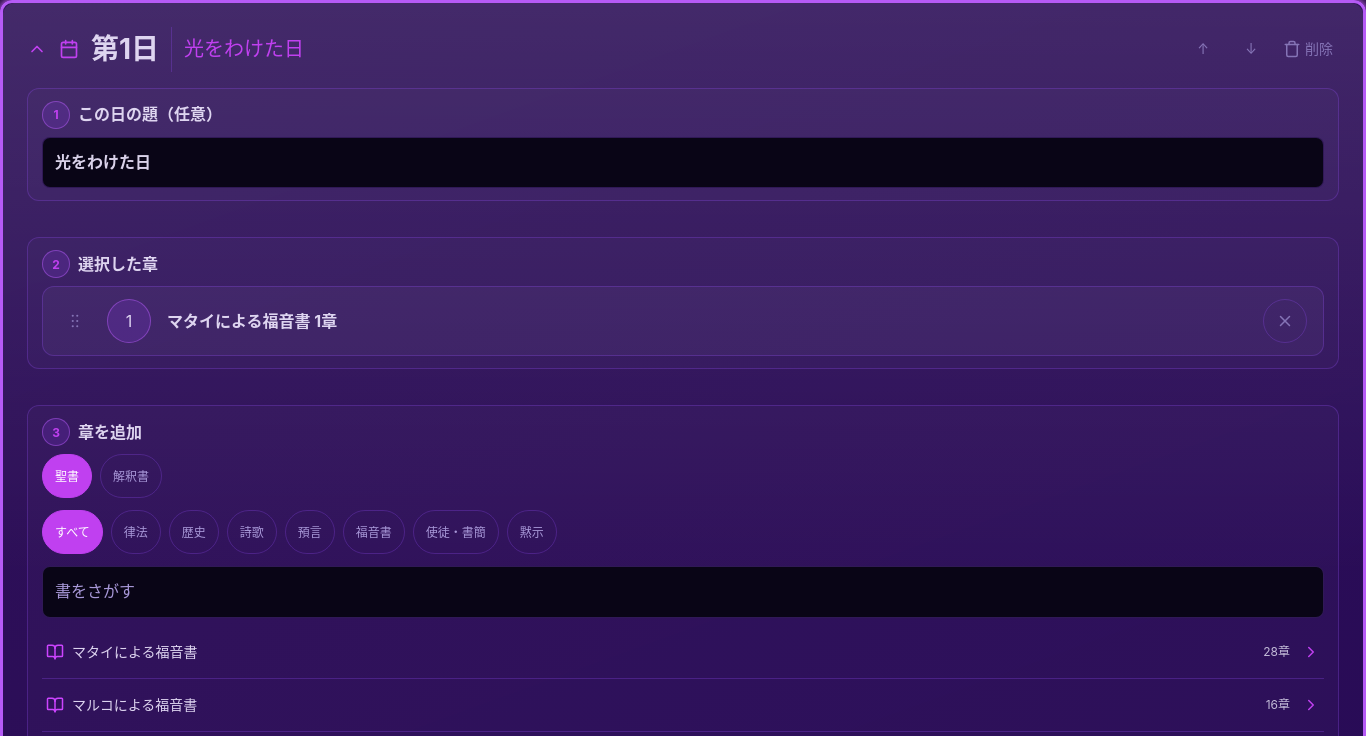
Scenario: プランの1日の編集 › 読む章が出て、外せる
Expected: the text "マタイによる福音書 1章" is shown, x1=167 y1=311 x2=337 y2=331
Click the button named "マタイによる福音書 1章を外す". click: (1285, 321)
box: x1=1263 y1=299 x2=1307 y2=343
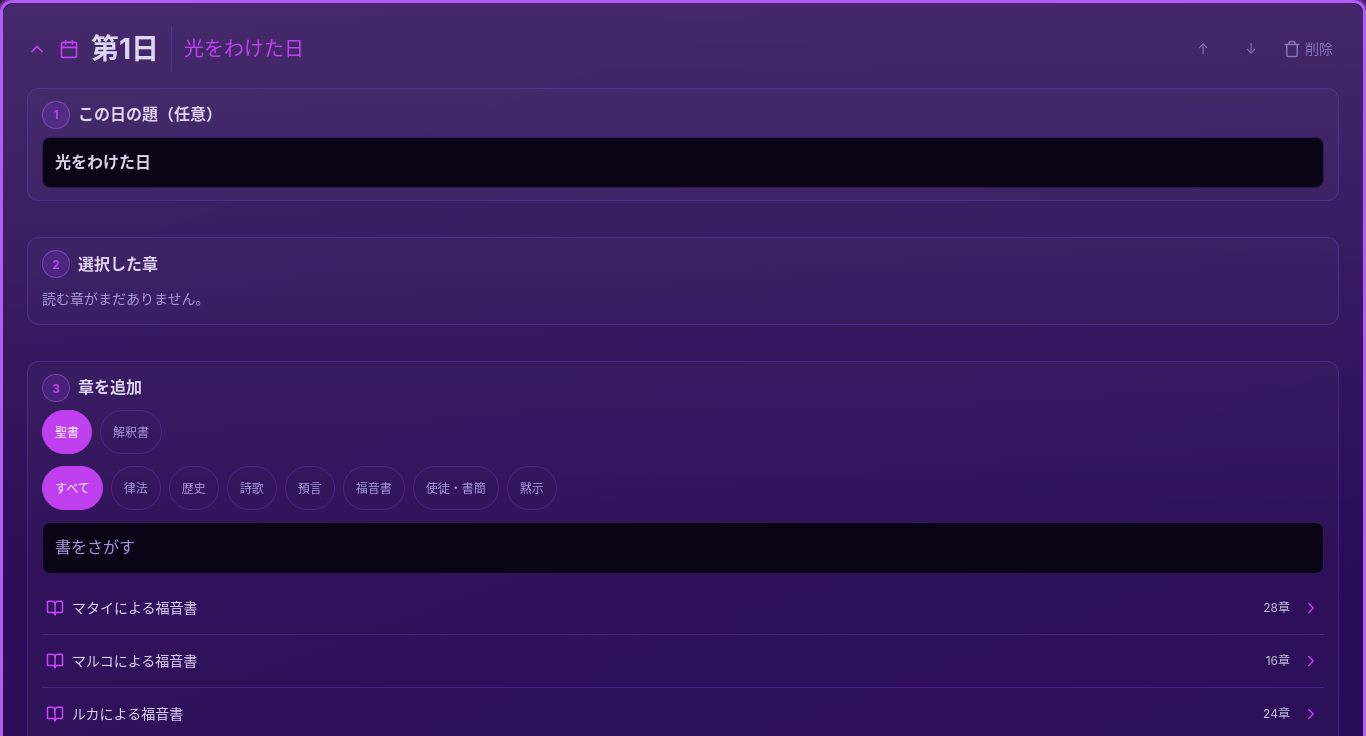
Result: the text "マタイによる福音書 1章" is gone
